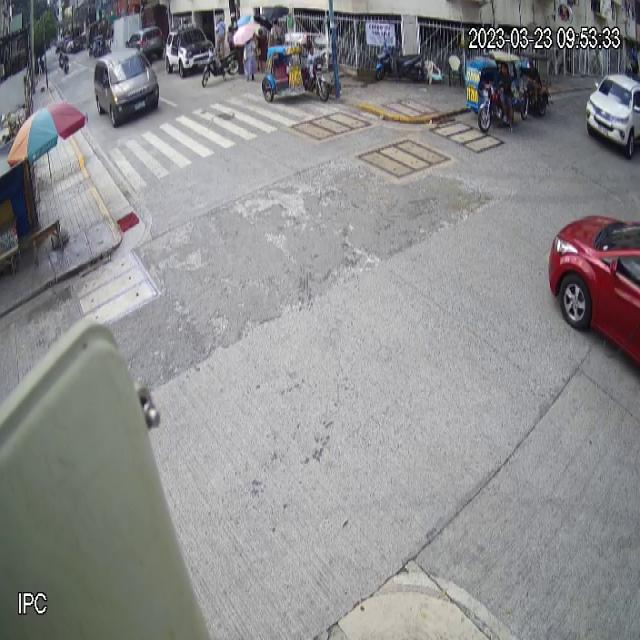Car: (585, 72, 640, 158)
Tricycle: (261, 31, 330, 105), (465, 49, 521, 134)
Van: (93, 48, 159, 128)
